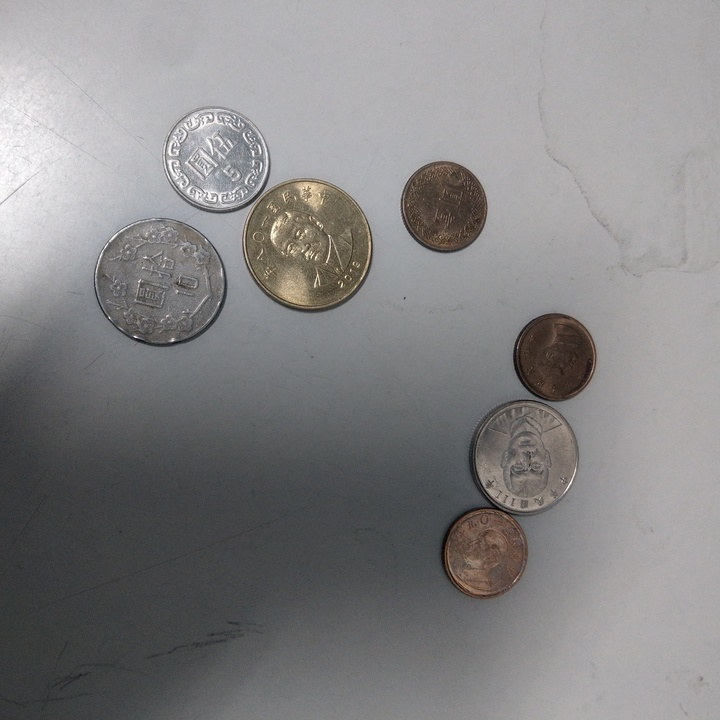1 dollar: (398, 160, 492, 256), (441, 506, 531, 600), (514, 310, 599, 406)
10 dollar: (95, 218, 228, 350), (464, 398, 584, 520)
5 dollar: (162, 109, 272, 212)
50 dollar: (243, 176, 378, 316)
